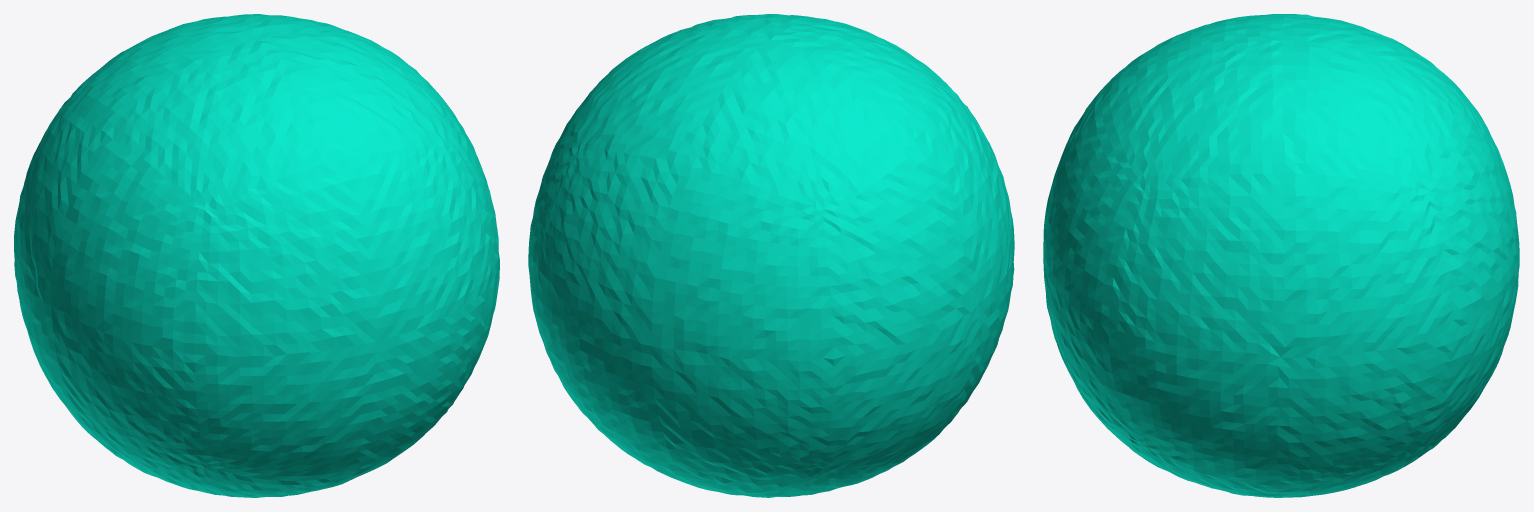
The model's file is Sea03.fbx.
3 views of the same model, side by side, from view 1: azimuth 30°, elevation 25°; view 2: azimuth 150°, elevation 25°; view 3: azimuth 270°, elevation 25° (orthographic).
Visible parts, largest first — view 1: pCube1; view 2: pCube1; view 3: pCube1.
Part boxes in pixels (left/top/right/bottom): pCube1: left=14, top=14, right=499, bottom=497; pCube1: left=528, top=14, right=1014, bottom=497; pCube1: left=1043, top=14, right=1519, bottom=497.
Bounding box in the file's own units: 40.56 × 40.6 × 40.54.
